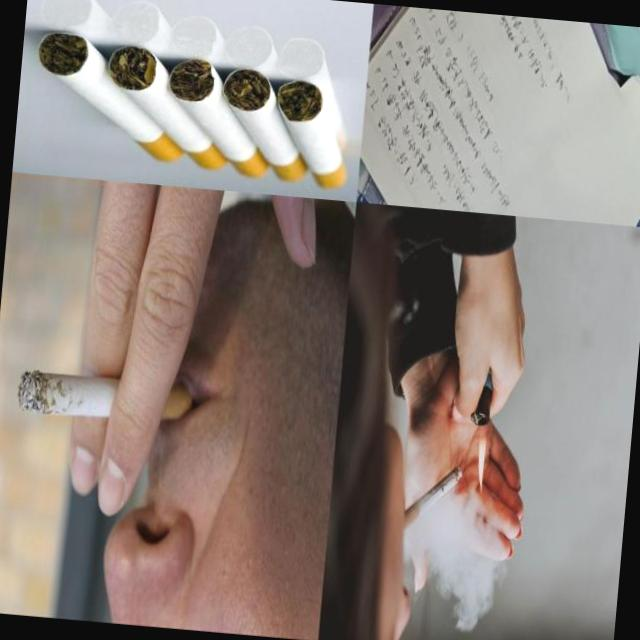smoke: (29, 30, 192, 164), (100, 44, 238, 172), (161, 55, 279, 179), (215, 66, 316, 184), (13, 366, 195, 428), (270, 78, 354, 191), (398, 460, 463, 537)
